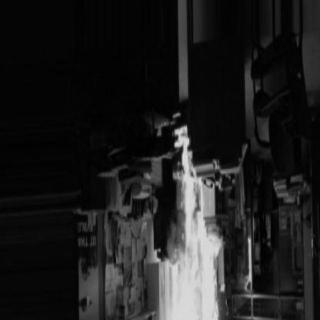Fire: (155, 124, 229, 320)
